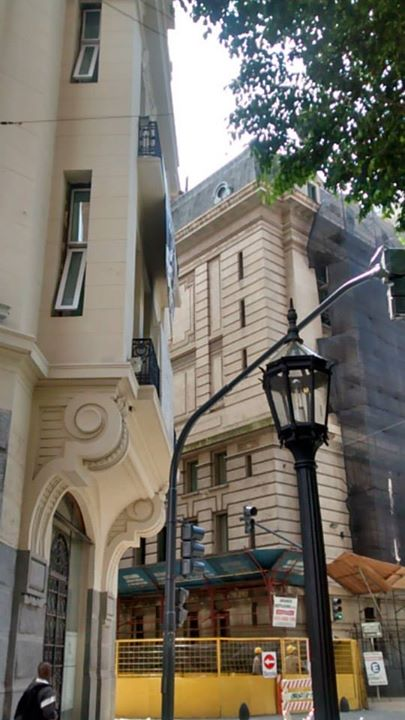fachada: (2, 0, 168, 718), (172, 143, 405, 638)
poste: (160, 228, 403, 720), (248, 300, 375, 720)
